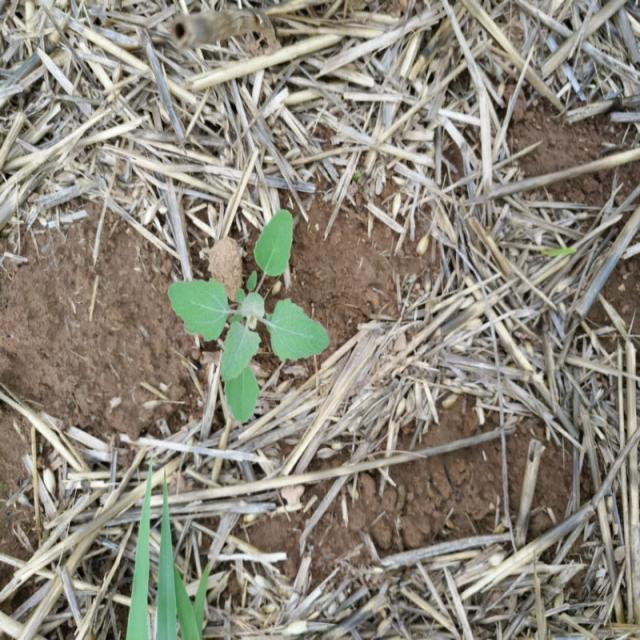goosefoots: (158, 206, 342, 453)
